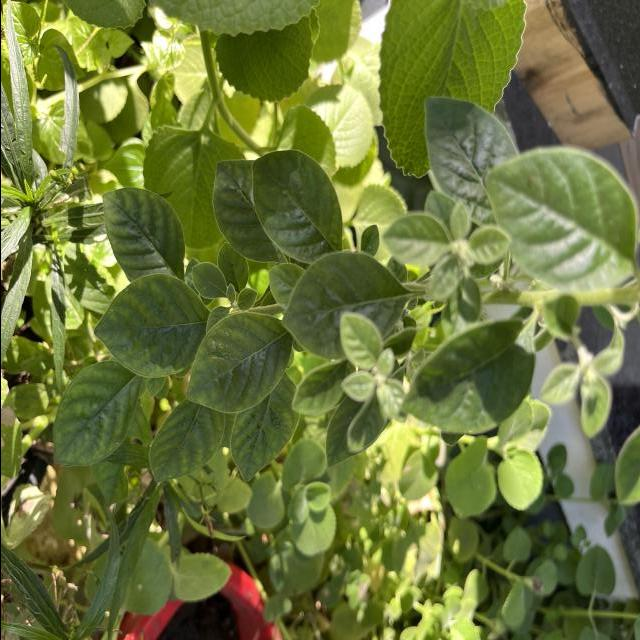Aerva lanata: (90, 270, 212, 382), (182, 308, 292, 416), (248, 146, 344, 265), (49, 358, 142, 470), (227, 373, 302, 485), (98, 186, 187, 280), (147, 396, 226, 486)
